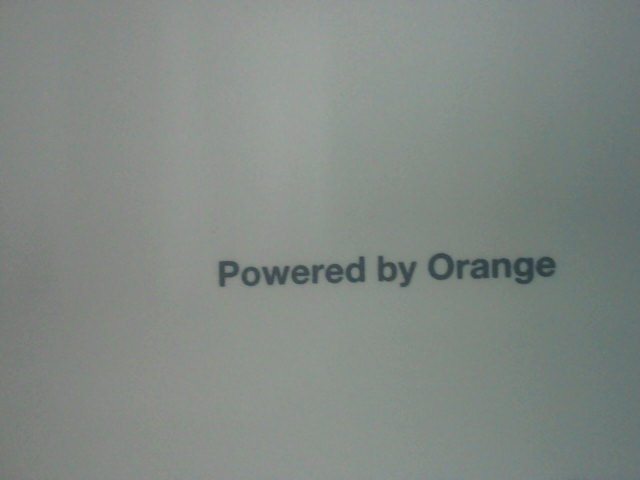AS_PowerByOrange: (201, 244, 568, 291)
